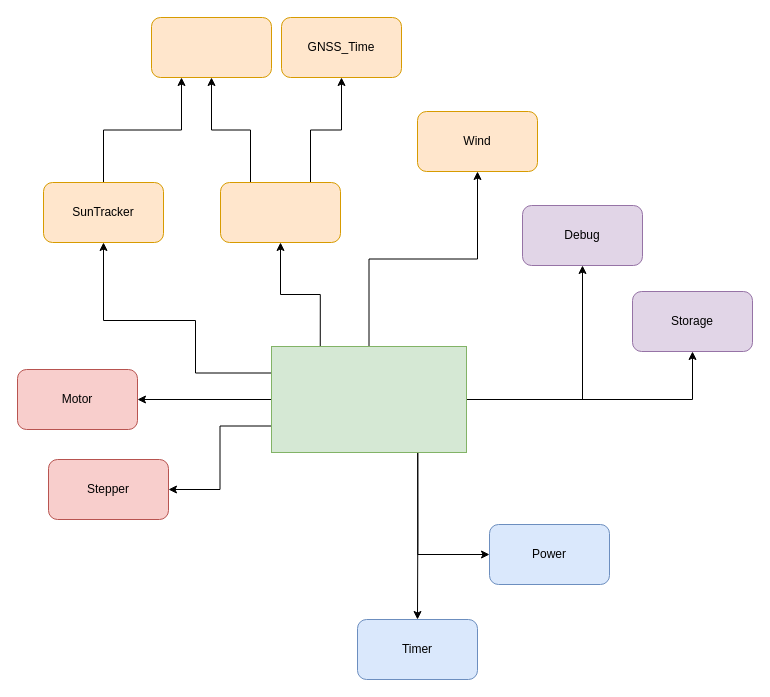
This 770x697 diagram has some shape labels left out. The shapes that lost their labels are listed below. From the top down, each one's centre as x and y in pixels, then its label:
At point 211,47: "GNSS_Coordinates".
At point 280,212: "GNSS".
At point 368,399: "main".
